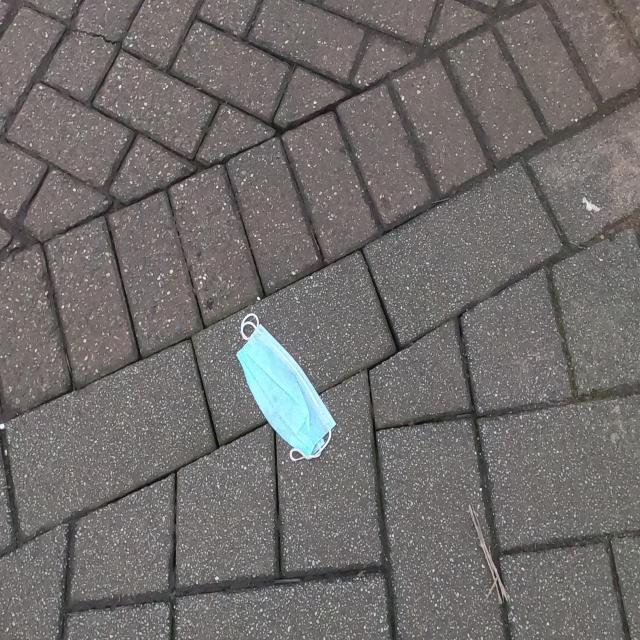Mask: (234, 311, 338, 464)
